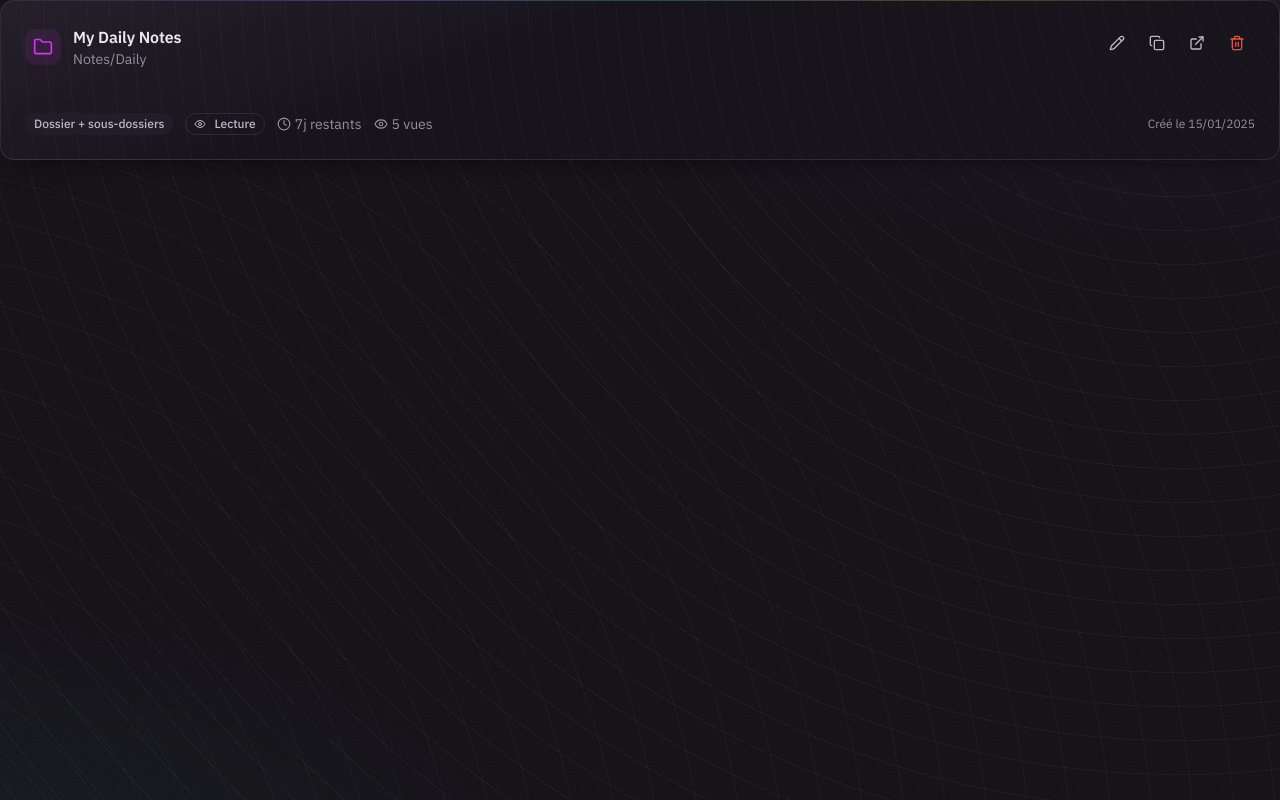
ShareCard › rename dialog › opens rename dialog when pencil button is clicked
This screenshot has width=1280, height=800.
What coordinates should you click on to do the following:
click the button titled "Renommer"
I would click on:
 (1117, 43)
Its box is [1099,25,1135,61].
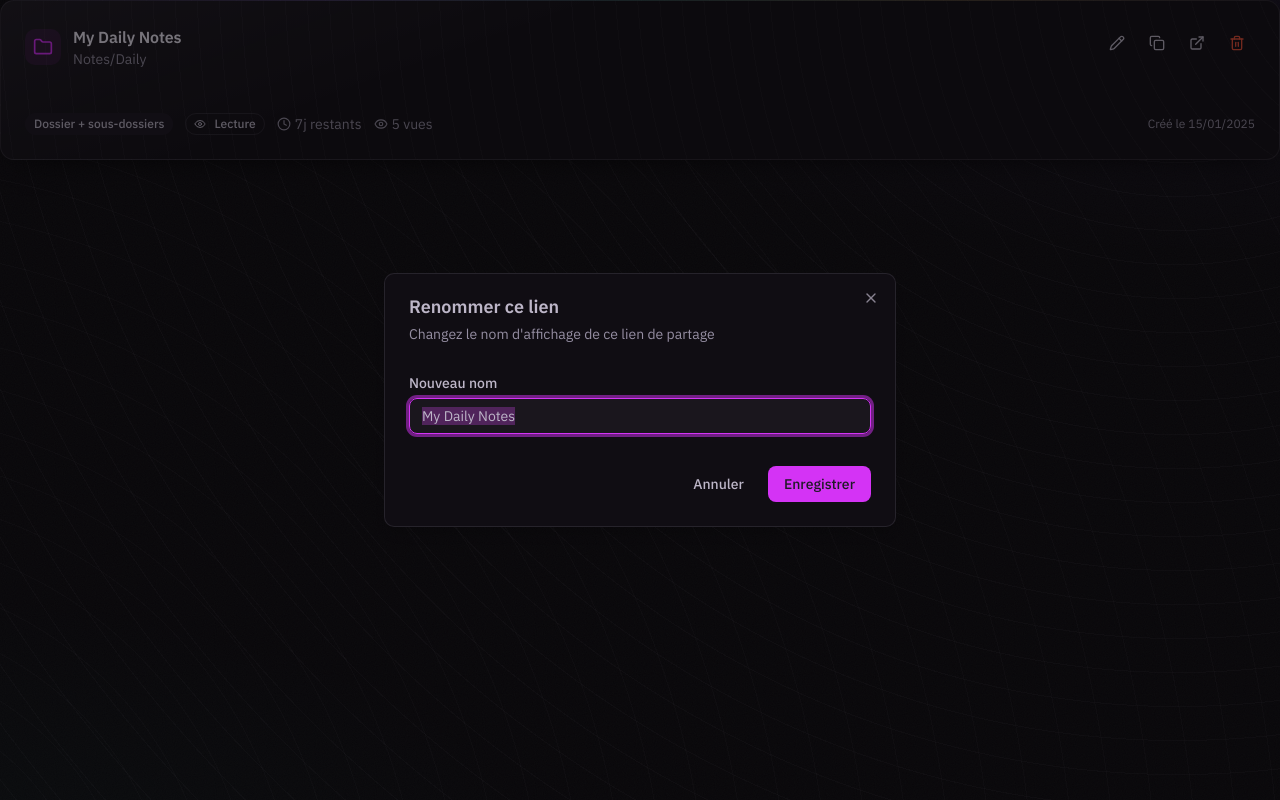
Expected: the heading "Renommer ce lien" is shown, [409,295,559,318]
